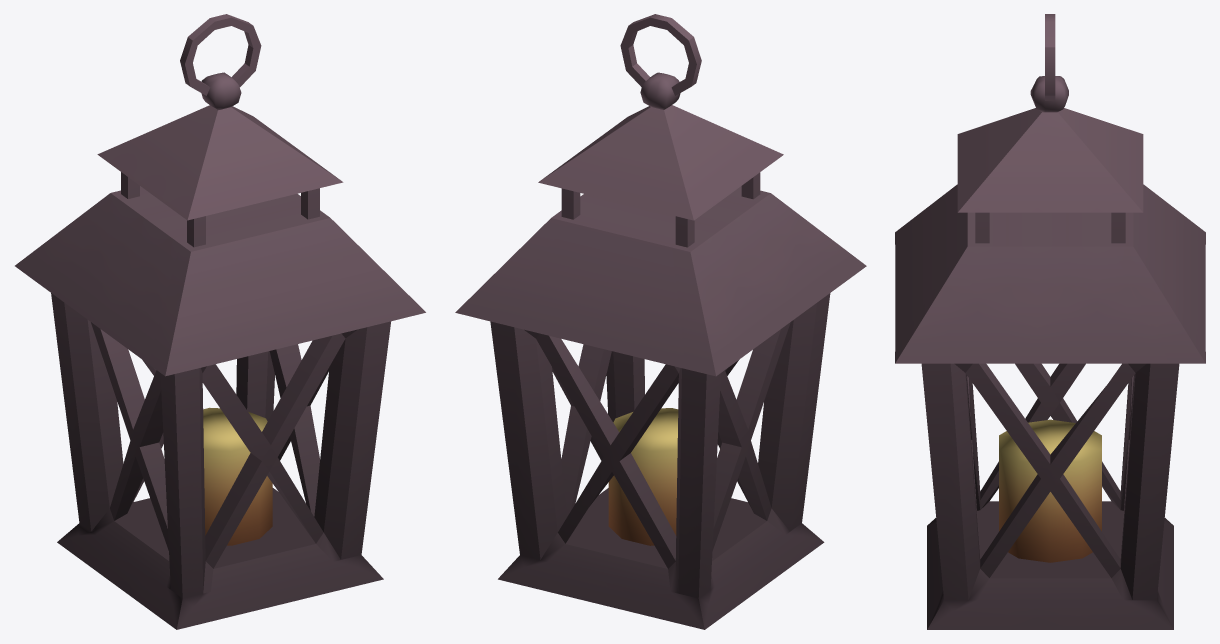
File: lantern.fbx
3 renders of one model, left to right at view 1: azimuth 30°, elevation 25°; view 2: azimuth 150°, elevation 25°; view 3: azimuth 270°, elevation 25°, orthographic. The views are drawn at different scales.
Visible parts, largest first — view 1: lantern, candle; view 2: lantern, candle; view 3: lantern, candle.
Part boxes in pixels (bbox=[...]): lantern: bbox=[15, 14, 425, 629]; candle: bbox=[203, 407, 272, 545]; lantern: bbox=[455, 14, 866, 629]; candle: bbox=[608, 408, 678, 545]; lantern: bbox=[895, 14, 1205, 629]; candle: bbox=[999, 419, 1101, 562].
Bounding box in the file's own units: 7.33 × 14.56 × 7.33.
